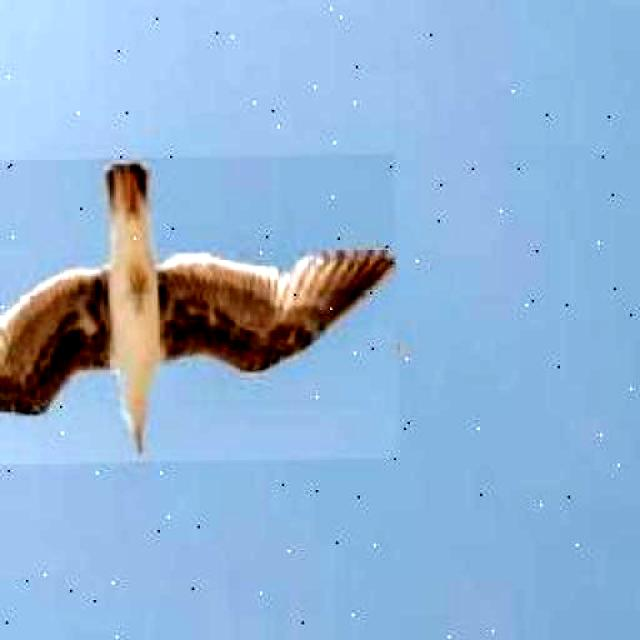airplane: (0, 152, 399, 466)
